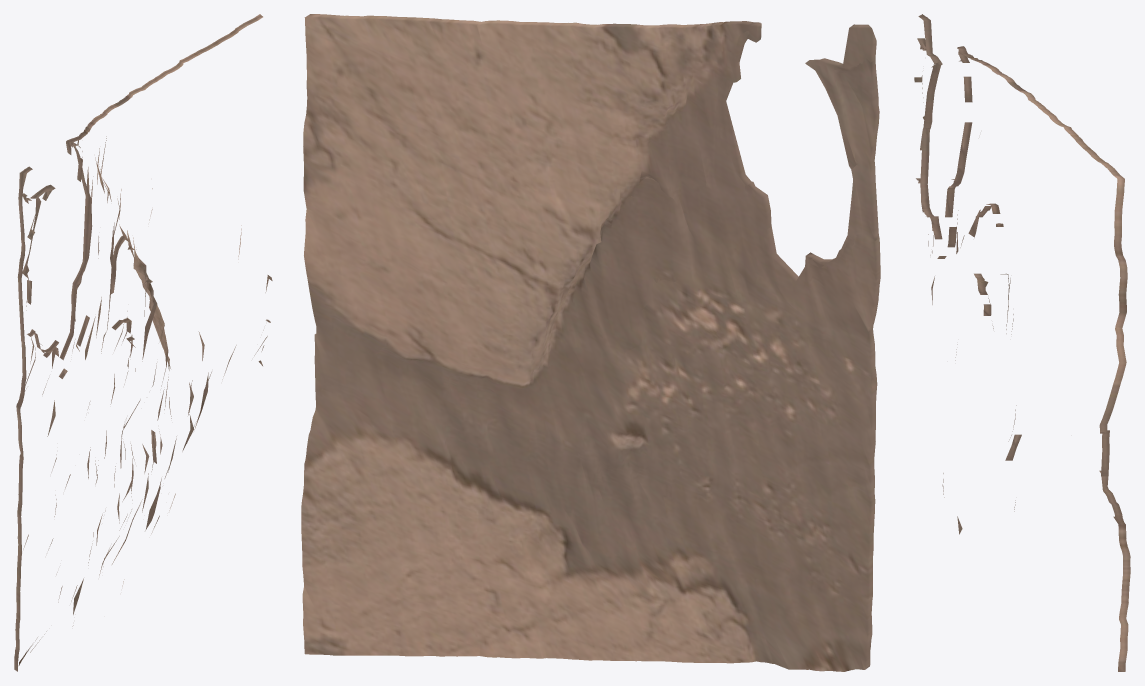
The picture shows the model from 3 angles, left to right: view 1: azimuth 30°, elevation 25°; view 2: azimuth 150°, elevation 25°; view 3: azimuth 270°, elevation 25°; orthographic projection. The views are drawn at different scales.
Size of the model in its own units: 0.5223 by 0.7275 by 0.296.
Materials: 1 (1 with a texture image).
